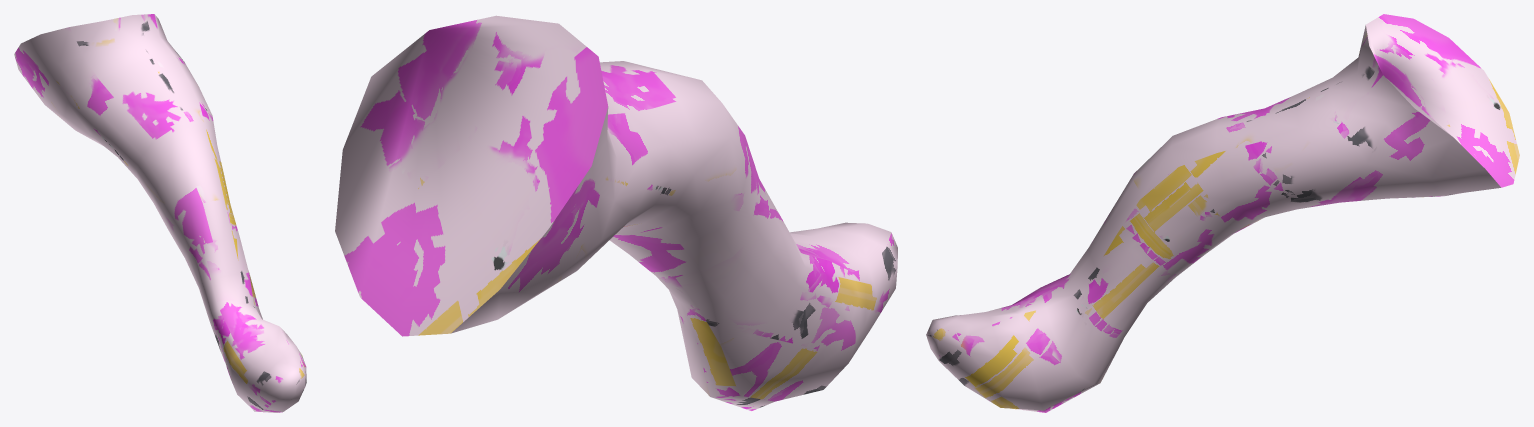
File: UnicornCutLeg.FBX
3 renders of one model, left to right at view 1: azimuth 30°, elevation 25°; view 2: azimuth 150°, elevation 25°; view 3: azimuth 270°, elevation 25°, orthographic. The views are drawn at different scales.
Visible parts, largest first — view 1: Group20632.001; view 2: Group20632.001; view 3: Group20632.001.
Boxes of the visible parts, box(x1,y1,x2,y2) form: Group20632.001: box(14, 14, 306, 412); Group20632.001: box(335, 15, 897, 410); Group20632.001: box(926, 14, 1519, 412).
Size of the model in its own units: 37.21 by 82.46 by 120.
